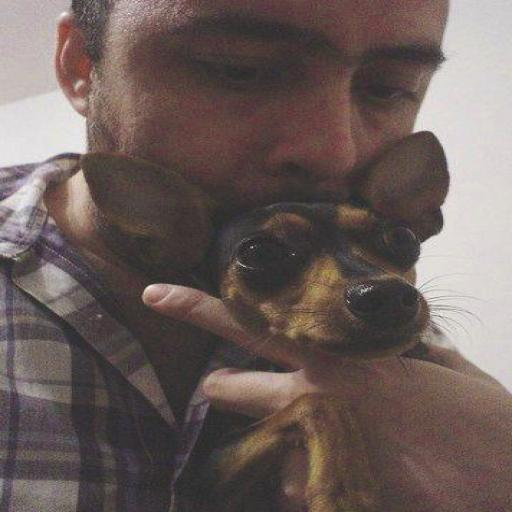dog_face: (94, 142, 460, 357)
